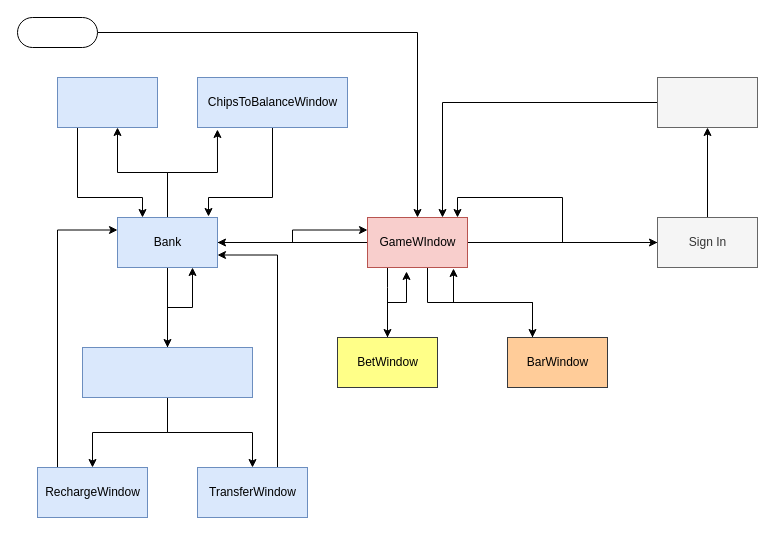
This 775x535 diagram has some shape labels left out. The box of each missing label's shape, as (x1, y1, x2, y2) in pixels:
BankCredentialsWindow: (82, 346, 252, 398)
ChipsWindow: (56, 76, 158, 128)
Sign Up: (656, 76, 758, 128)
Start: (16, 16, 98, 48)
